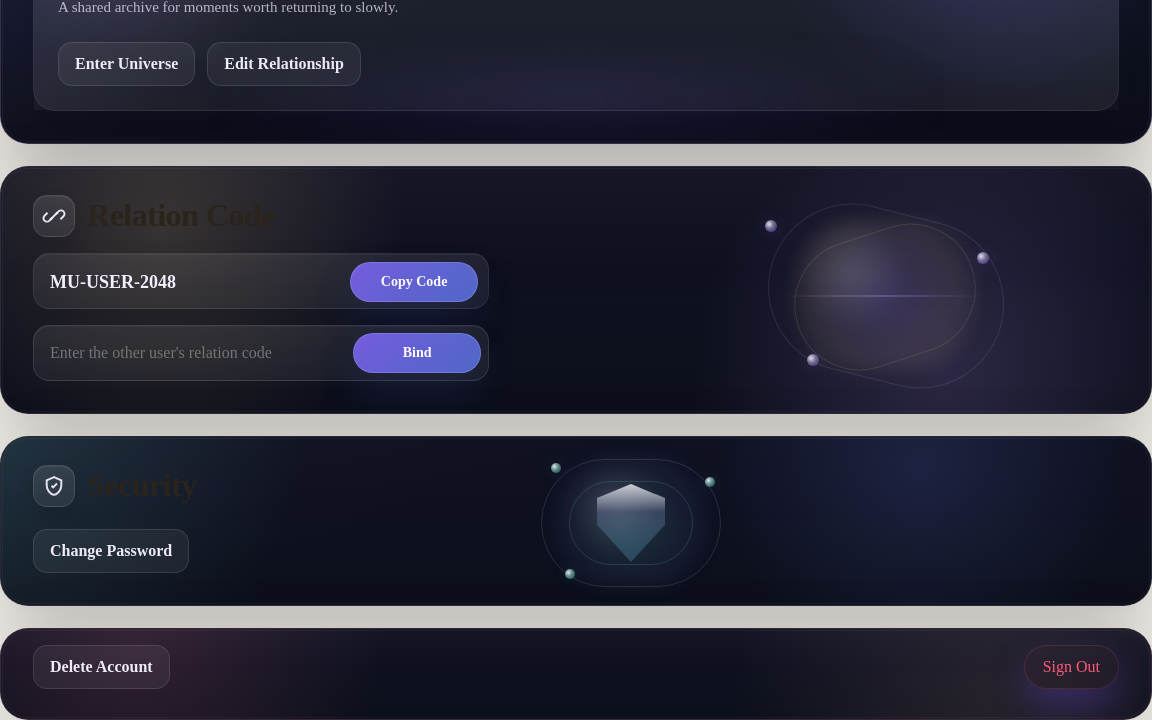
Test: AccountPage › opens a delete confirmation dialog and closes it on cancel
(page scrolled)
Click the button "Delete Account".
click(101, 667)  # box [33,645,170,689]
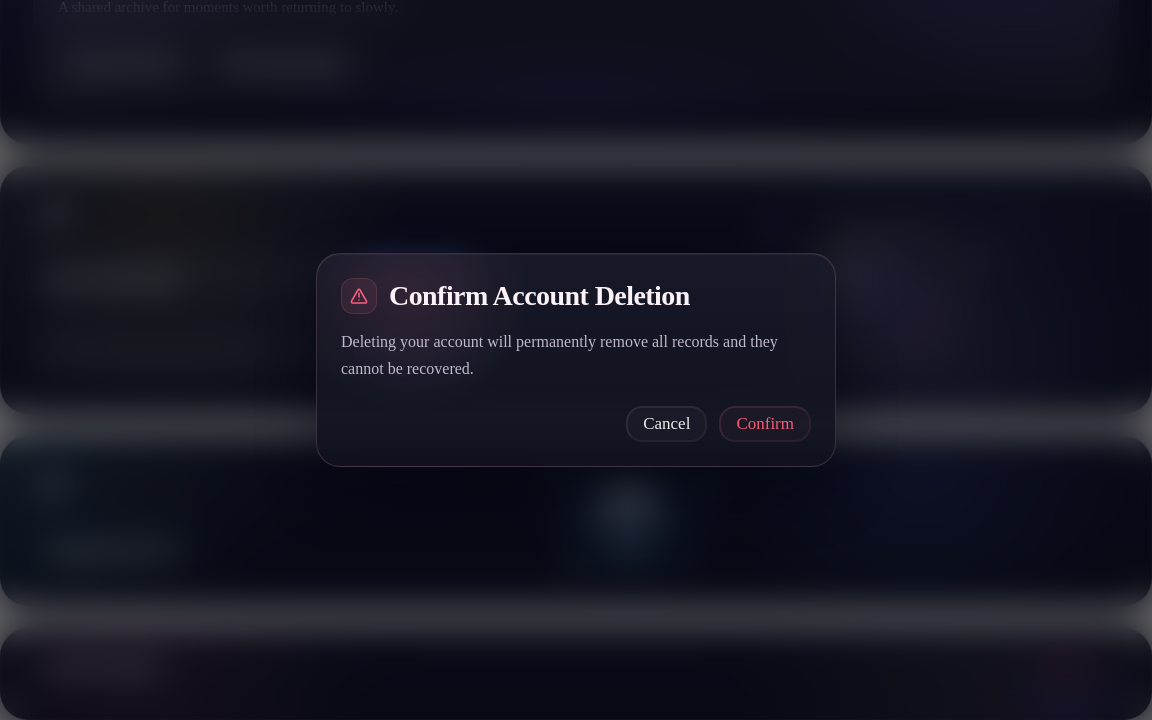
Expected: the dialog "Confirm Account Deletion" is shown, [316,253,836,467]
Expected: the text "Deleting your account will permanently remove all records and they cannot be recovered." is shown, [341,333,778,377]
Expected: the element with class "account-danger-zone-dialog-backdrop" is shown
Click the button "Cancel".
click(667, 424)  # box [626,406,707,442]
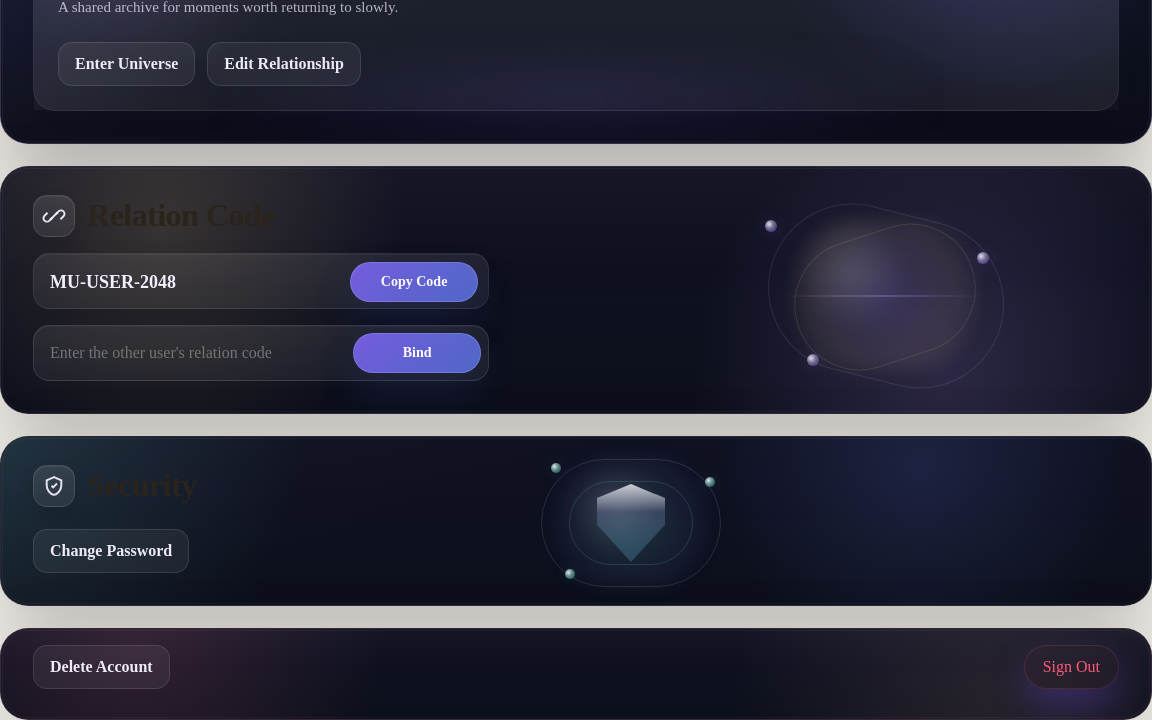
Expected: the heading "Confirm Account Deletion" is gone
